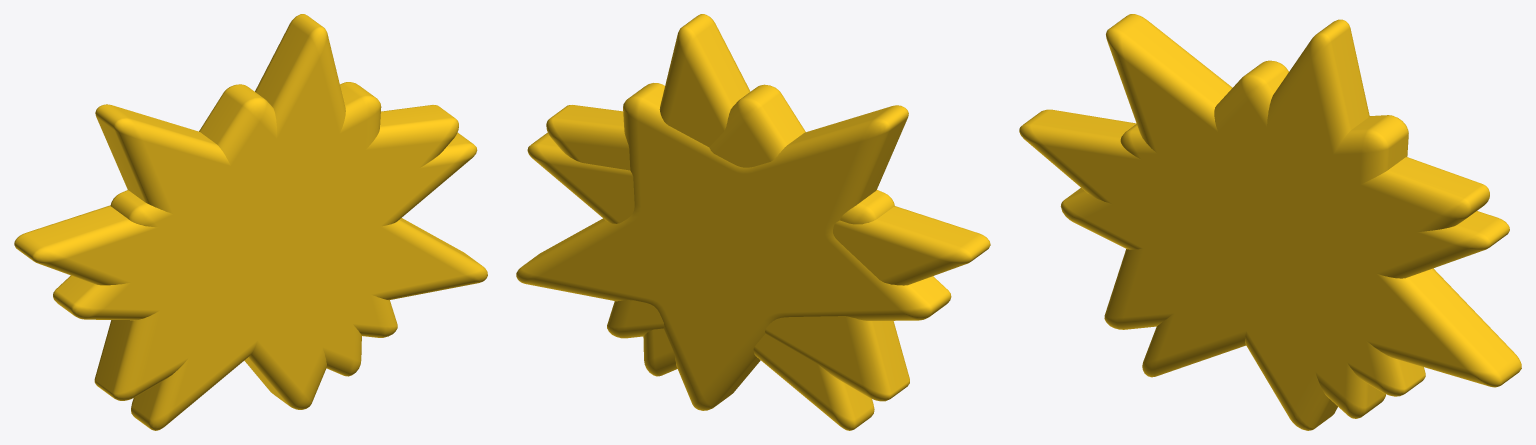
The model's file is Starburst.glb.
3 views of the same model, side by side, from view 1: azimuth 30°, elevation 25°; view 2: azimuth 150°, elevation 25°; view 3: azimuth 330°, elevation 25° (orthographic). The views are drawn at different scales.
Visible parts, largest first — view 1: node_id50, node_id38, node_id30; view 2: node_id38, node_id30, node_id50; view 3: node_id50, node_id38, node_id30.
Boxes of the visible parts, x1,y1,x2,y2 form: node_id50: [110, 14, 458, 430]; node_id38: [53, 82, 487, 409]; node_id30: [14, 84, 477, 400]; node_id38: [516, 83, 951, 410]; node_id30: [527, 84, 990, 401]; node_id50: [546, 14, 894, 430]; node_id50: [1120, 19, 1489, 418]; node_id38: [1060, 14, 1521, 430]; node_id30: [1019, 60, 1509, 396].
Bounding box in the file's own units: 0.8604 × 0.6835 × 0.0971.
Materials: 3 (3 with a texture image).
